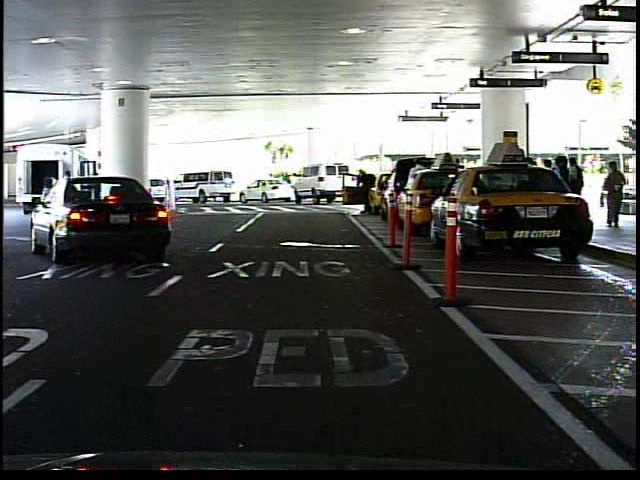person: (603, 159, 630, 228), (355, 163, 372, 219), (282, 169, 293, 197), (266, 172, 276, 179)
